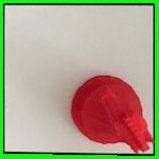Red Knight: (68, 72, 156, 155)
